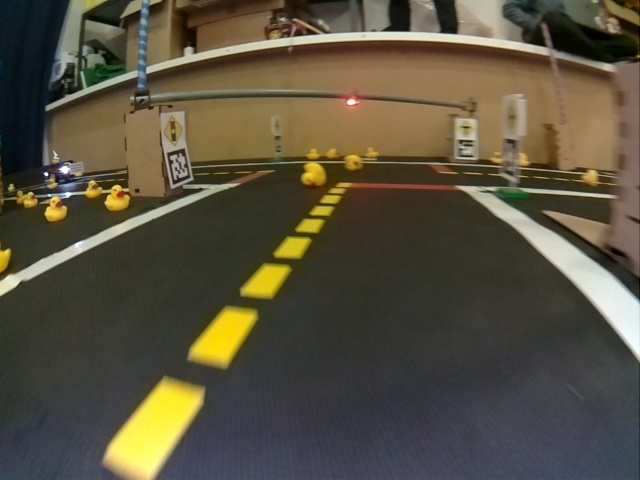Duckie: (104, 185, 127, 210), (301, 163, 321, 185), (46, 199, 64, 221), (344, 155, 360, 171), (85, 181, 102, 196), (24, 195, 35, 207), (492, 152, 501, 163), (308, 148, 316, 158), (327, 148, 337, 155)
Duckiebot: (41, 162, 84, 180)
Intersection sign: (504, 98, 520, 134), (458, 120, 474, 137), (273, 117, 282, 132)
QR code: (167, 149, 189, 184), (457, 143, 474, 158), (272, 138, 281, 155)
Signal sign: (164, 115, 185, 147)
Traffic light: (345, 93, 357, 107)
